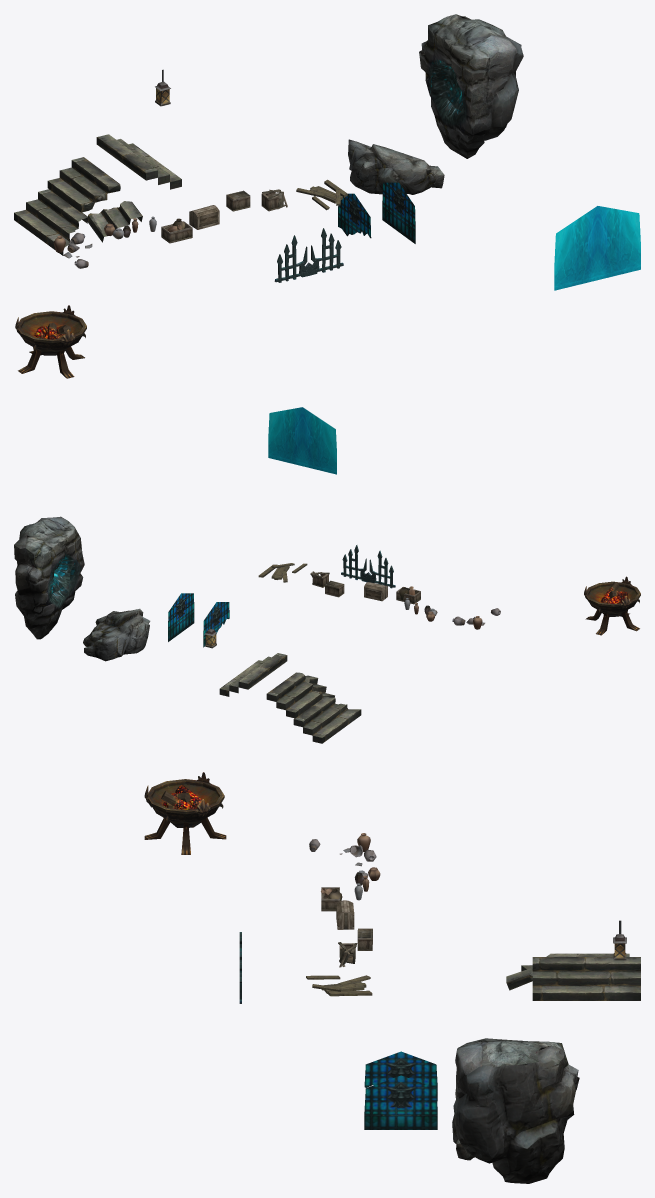
File: f_1103_stone.FBX
The picture shows the model from 3 angles, top to bottom: view 1: azimuth 30°, elevation 25°; view 2: azimuth 150°, elevation 25°; view 3: azimuth 270°, elevation 25°; orthographic projection. The views are drawn at different scales.
Parts seen in each view (by area): view 1: f_1103_stone01, f_1103_stone060, f_1103_stone02, Object1203, f_1103_stone07, f_1103_stone05, f_1103_stone04, Plane002xx, f_1103_stone08, f_1103_stone13, f_1103_stone09, f_1103_stone06 (+3 smaller); view 2: f_1103_stone01, f_1103_stone060, f_1103_stone02, Object1203, f_1103_stone07, f_1103_stone05, f_1103_stone04, Plane002xx, f_1103_stone08, f_1103_stone13, f_1103_stone09, f_1103_stone12; view 3: f_1103_stone01, f_1103_stone04, Object1203, f_1103_stone08, f_1103_stone09, f_1103_stone13, f_1103_stone11, f_1103_stone12, f_1103_stone15.
Part boxes in pixels (box(x1,y1,x2,y2)): f_1103_stone01: box(419, 14, 523, 158); f_1103_stone060: box(554, 206, 640, 290); f_1103_stone02: box(348, 139, 444, 194); Object1203: box(15, 305, 86, 378); f_1103_stone07: box(14, 189, 88, 255); f_1103_stone05: box(47, 157, 120, 212); f_1103_stone04: box(96, 134, 181, 189); Plane002xx: box(274, 228, 343, 282); f_1103_stone08: box(382, 182, 415, 243); f_1103_stone13: box(161, 205, 219, 243); f_1103_stone09: box(338, 193, 371, 238); f_1103_stone06: box(87, 201, 142, 242); f_1103_stone01: box(14, 516, 84, 639); f_1103_stone060: box(268, 407, 336, 474); f_1103_stone02: box(83, 608, 150, 661); Object1203: box(584, 576, 640, 635); f_1103_stone07: box(293, 697, 361, 743); f_1103_stone05: box(266, 672, 322, 718); f_1103_stone04: box(219, 653, 287, 696); Plane002xx: box(341, 545, 395, 588); f_1103_stone08: box(168, 593, 194, 641); f_1103_stone13: box(364, 582, 420, 604); f_1103_stone09: box(203, 602, 229, 647); f_1103_stone12: box(310, 571, 344, 597); f_1103_stone01: box(453, 1038, 579, 1183); f_1103_stone04: box(532, 957, 640, 1000); Object1203: box(144, 772, 226, 854); f_1103_stone08: box(364, 1075, 437, 1129); f_1103_stone09: box(364, 1051, 437, 1100); f_1103_stone13: box(321, 887, 354, 929); f_1103_stone11: box(306, 975, 372, 996); f_1103_stone12: box(338, 928, 372, 967); f_1103_stone15: box(309, 833, 376, 866).
Bounding box in the file's own units: 3951 × 885 × 3053.
